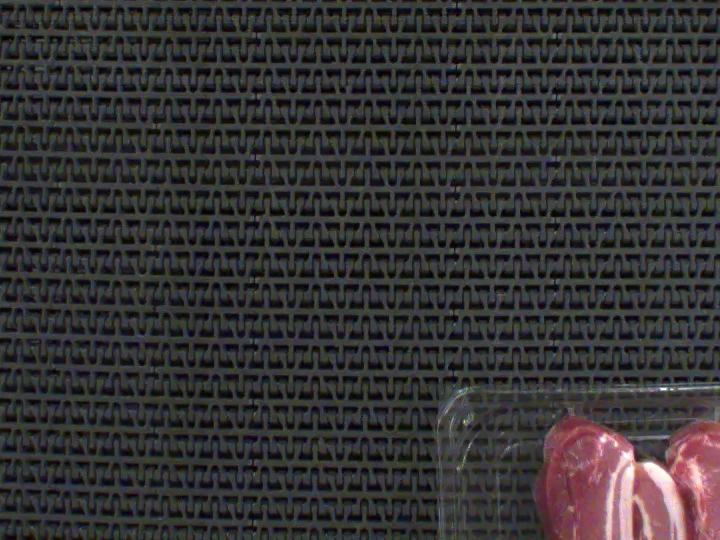packaging-error: (562, 397, 600, 424), (688, 401, 720, 427)
